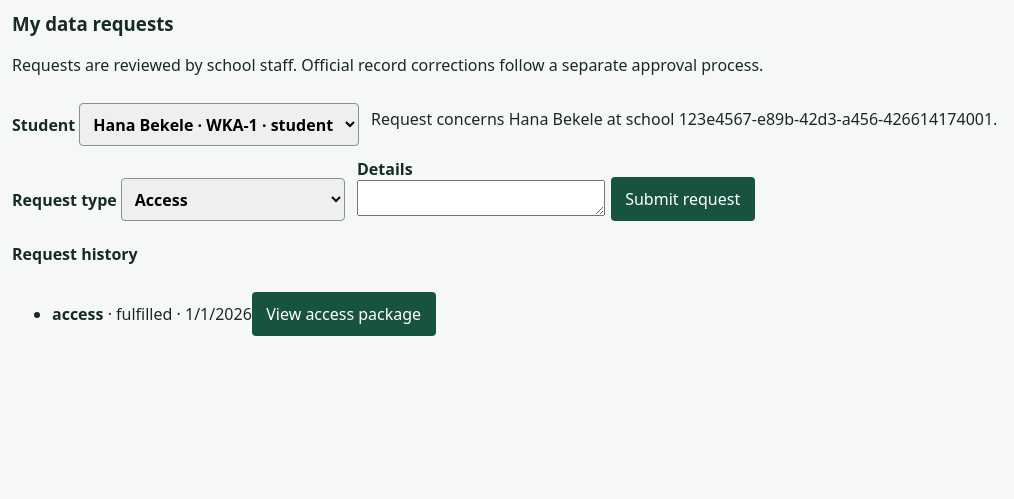
submits only for an eligible student and displays a fulfilled package
Expected: the text "Request concerns Hana Bekele" is shown, [371,108,997,130]
Type "Please provide my records" into the text box labelled "Details" at (481, 198), box [357,180,605,216]
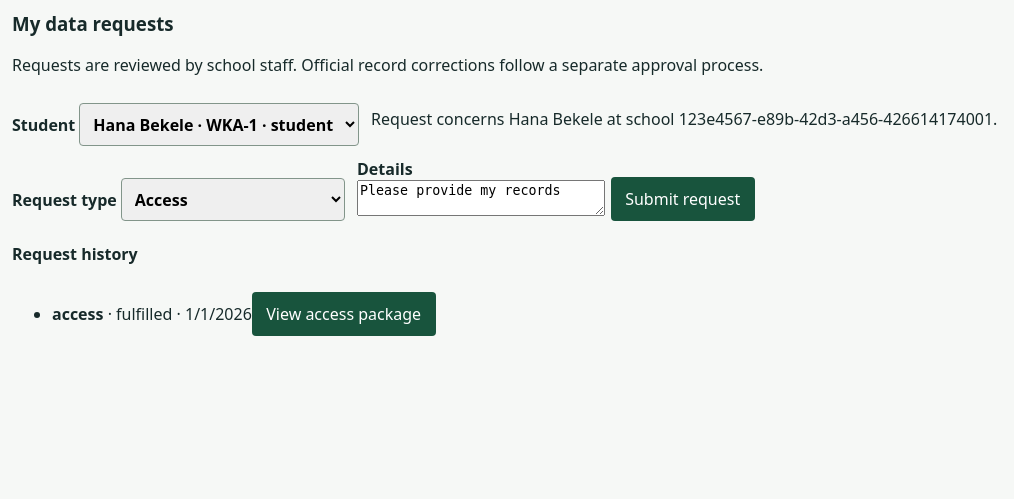
Click the button "Submit request" at (683, 199), box [611,177,755,221]
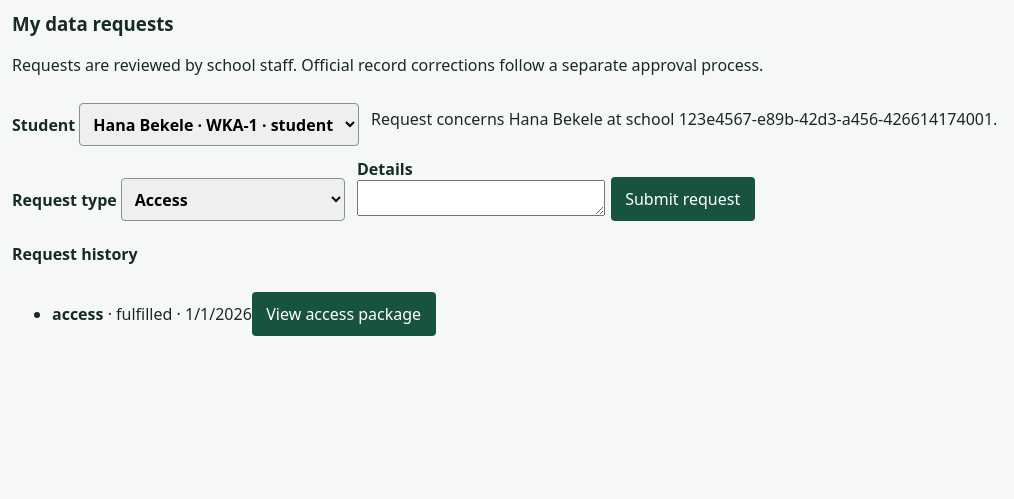
Click the button "View access package" at (344, 314), box [252,292,436,336]
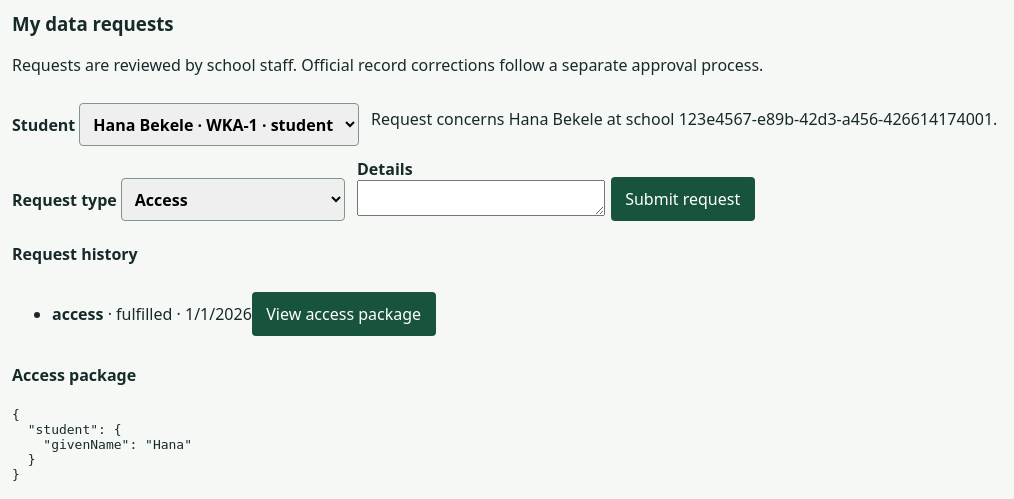
Now the text "{ \"student\": { \"givenName\": \"Hana\" } }" is shown, box [12,407,192,482]
